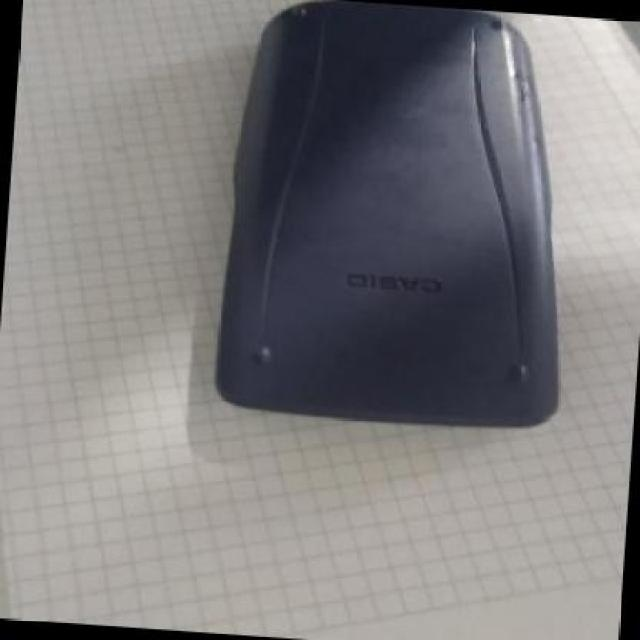Calculator: (217, 0, 592, 443)
